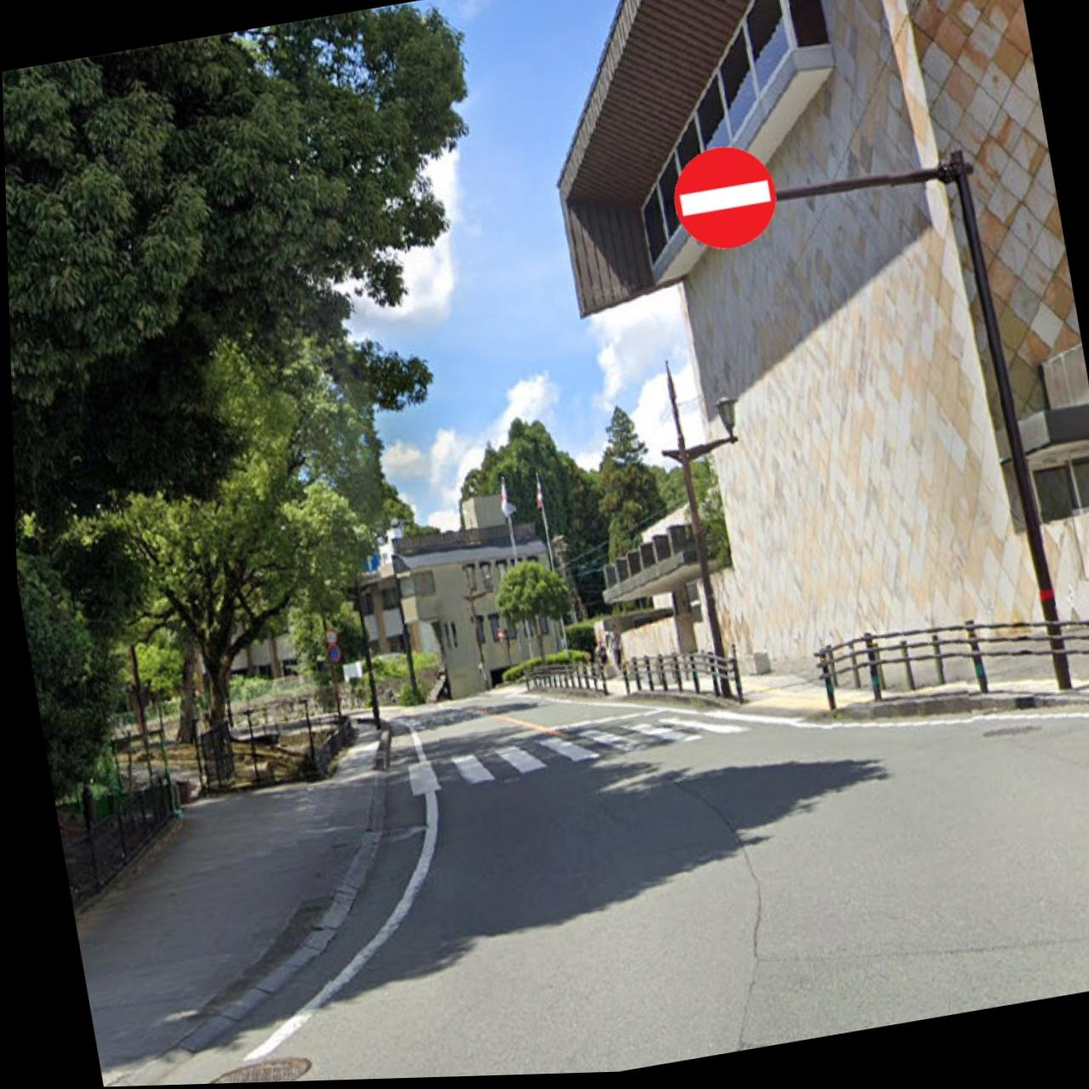barrier: (662, 133, 783, 260)
